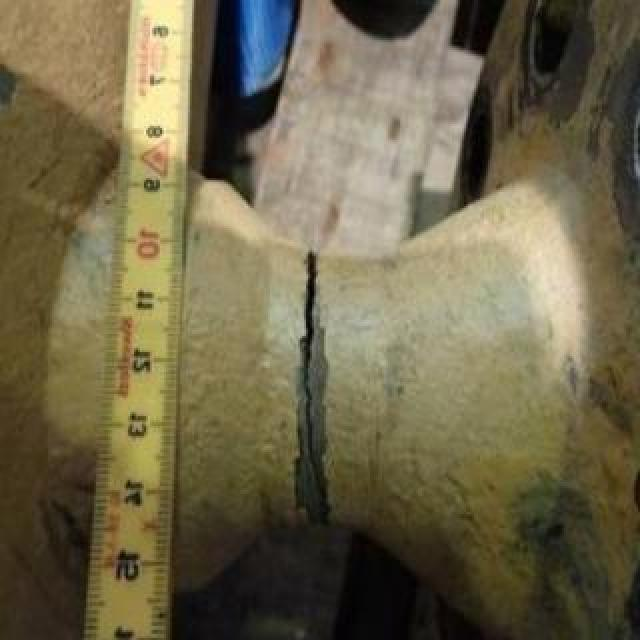crack: (295, 242, 331, 526)
